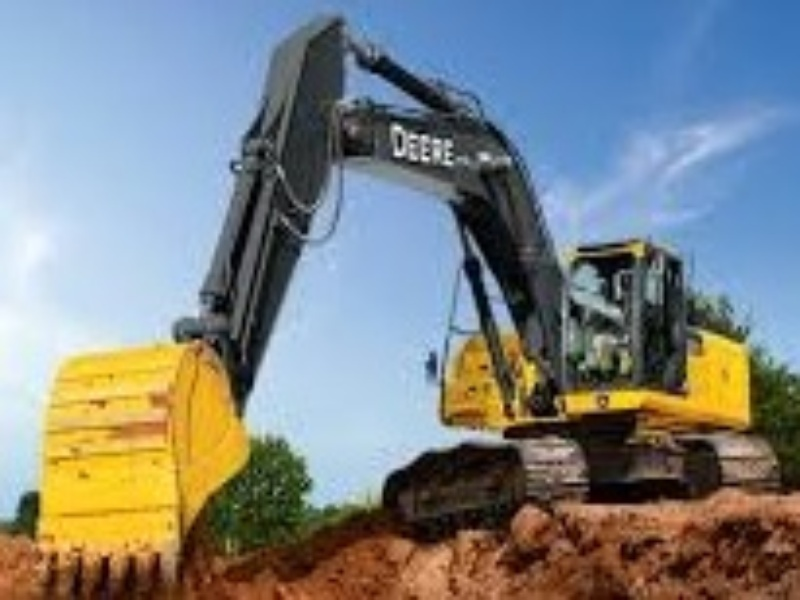wajueji: (361, 201, 800, 556)
